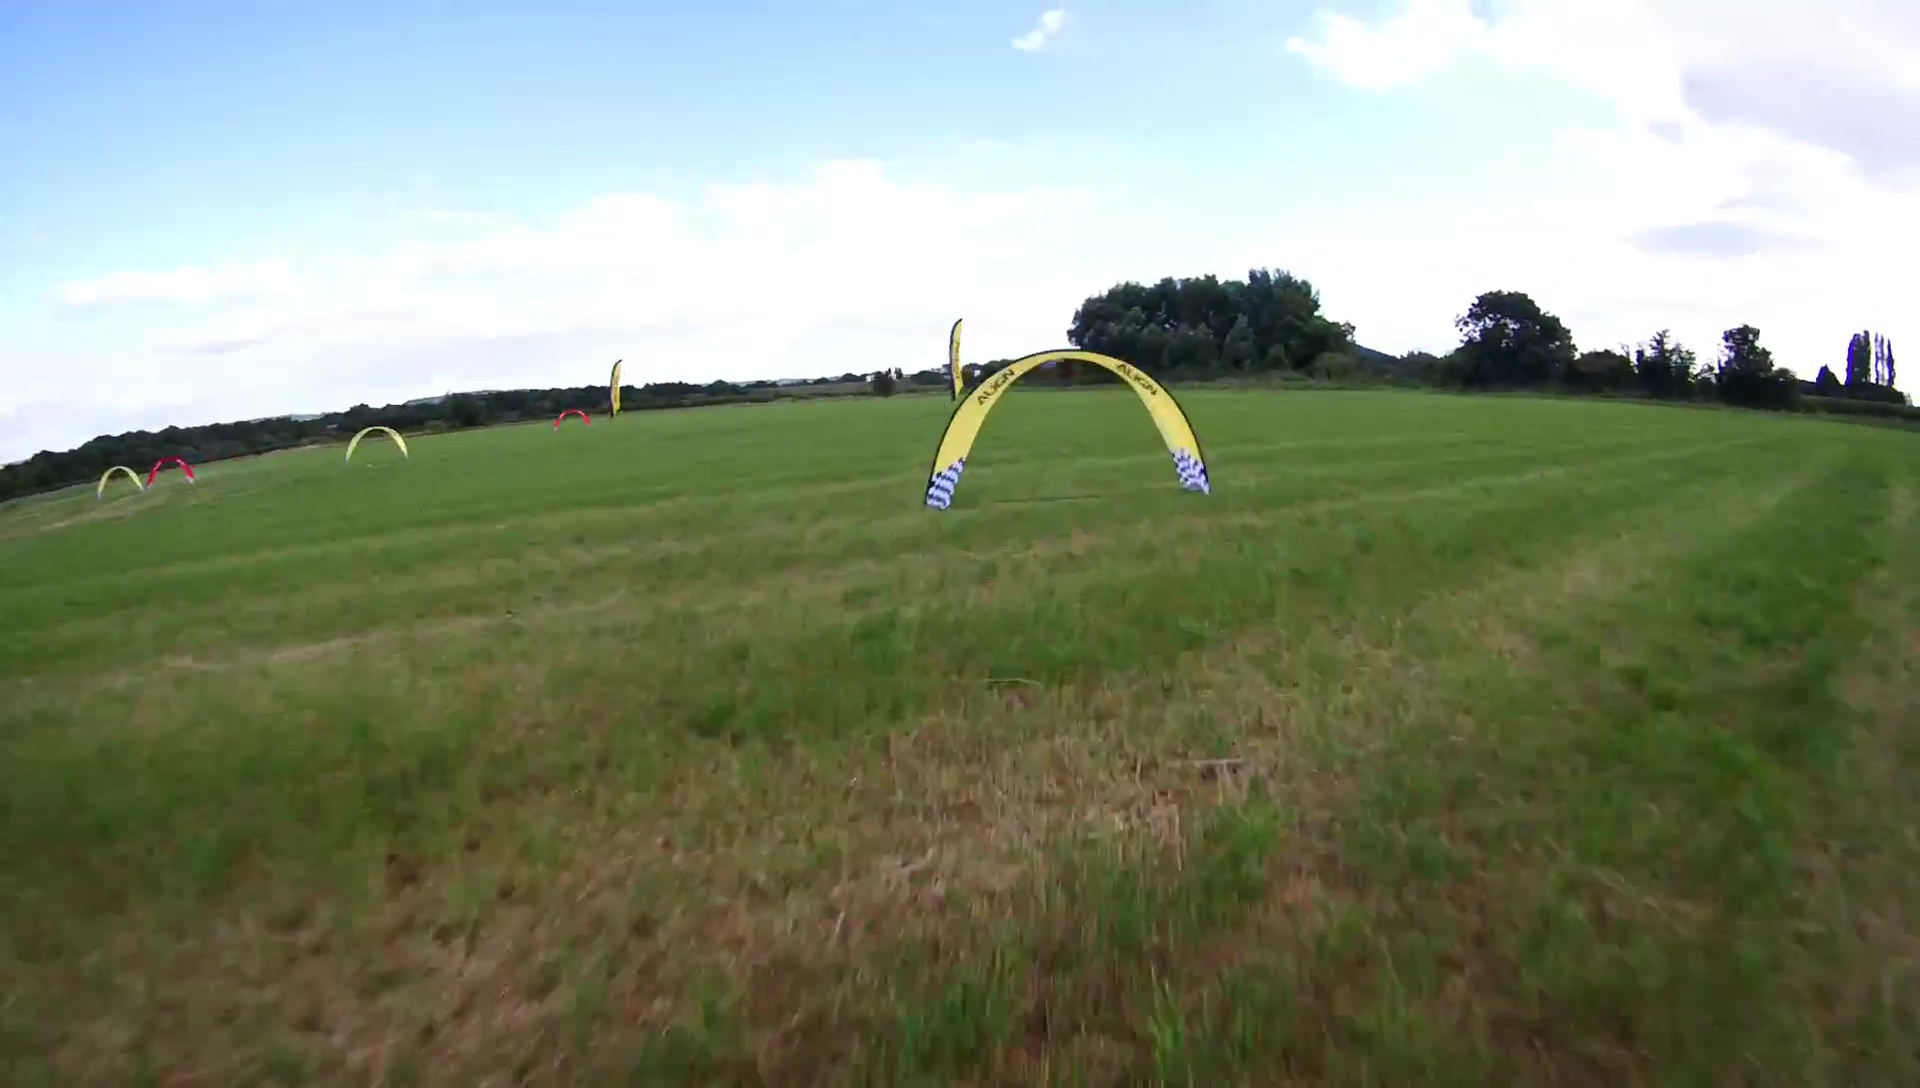gate: (924, 349, 1213, 509), (339, 426, 413, 466), (144, 456, 198, 489), (94, 466, 146, 499)
